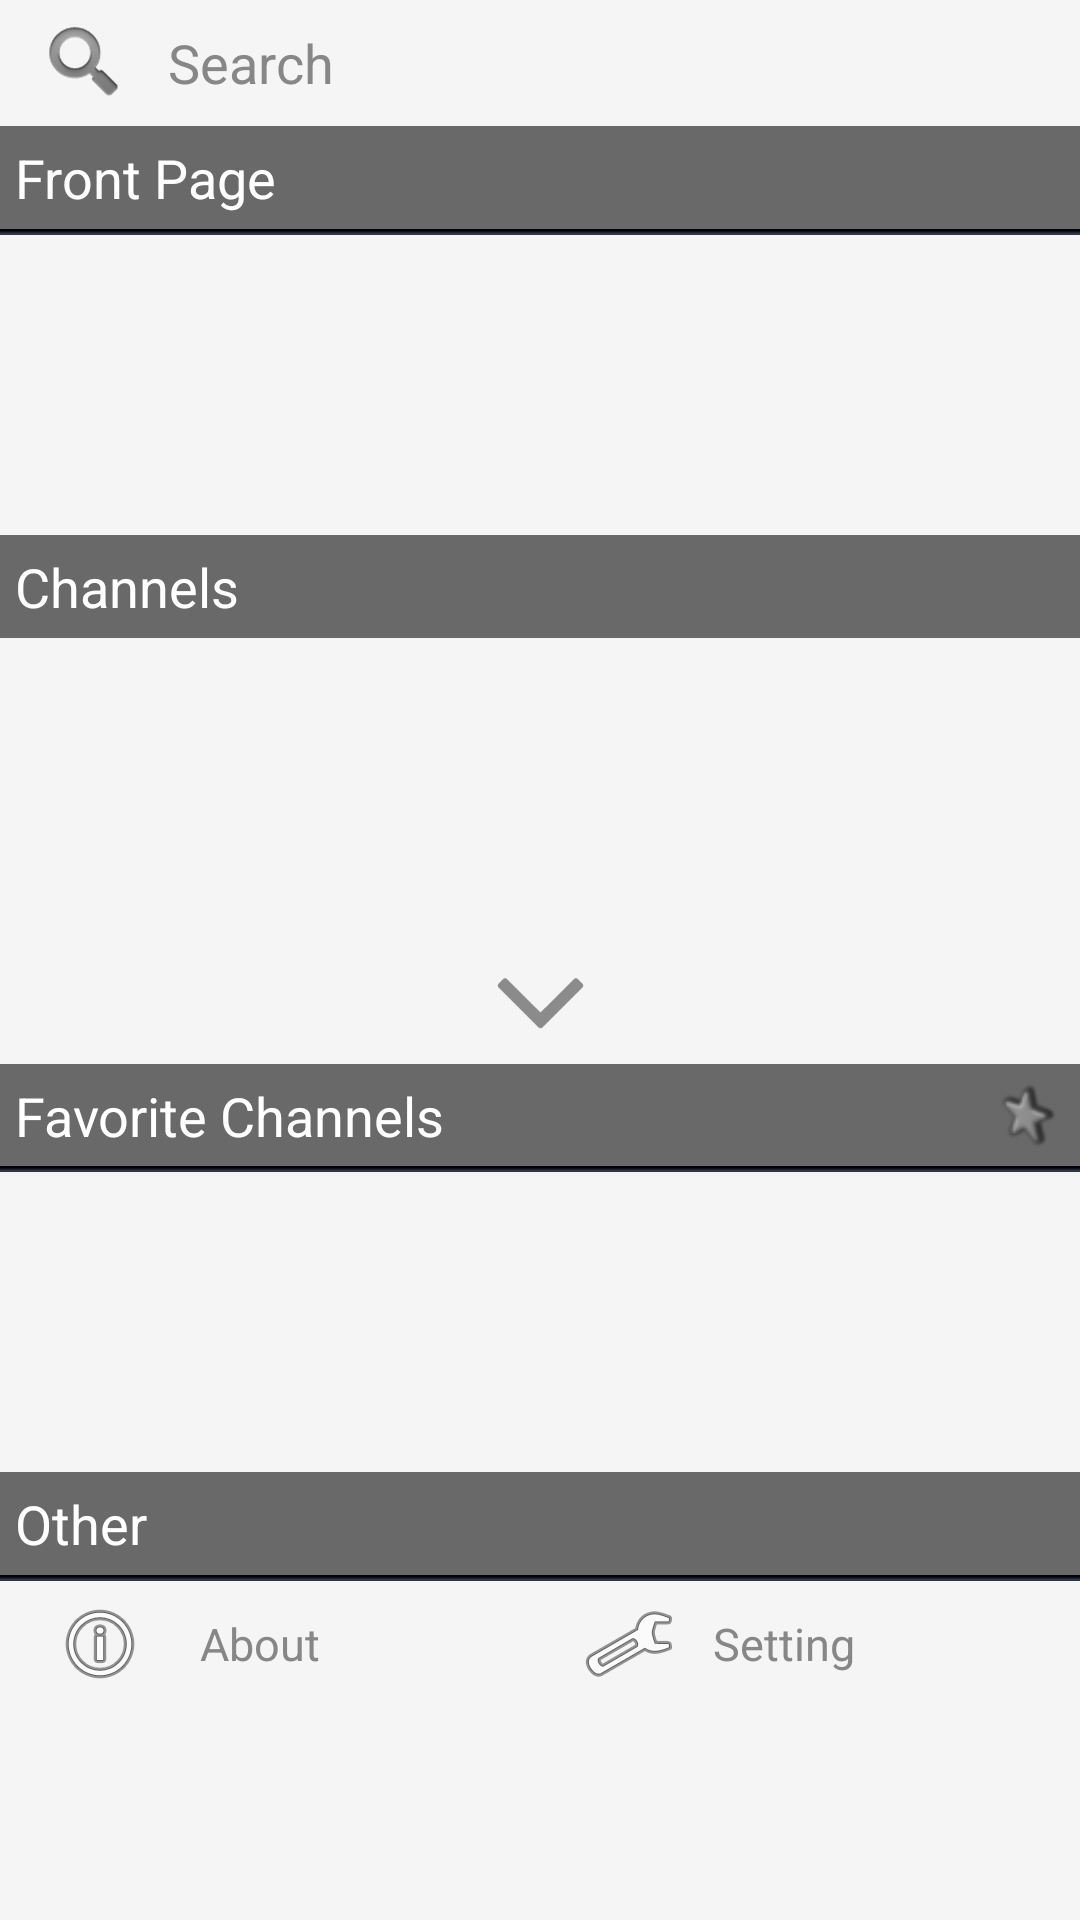

Screen size 1080px×1920px. Icon name, then its center in pixels as (x,y):
info details: (100,1644)
more: (540,1003)
preferences: (629,1644)
